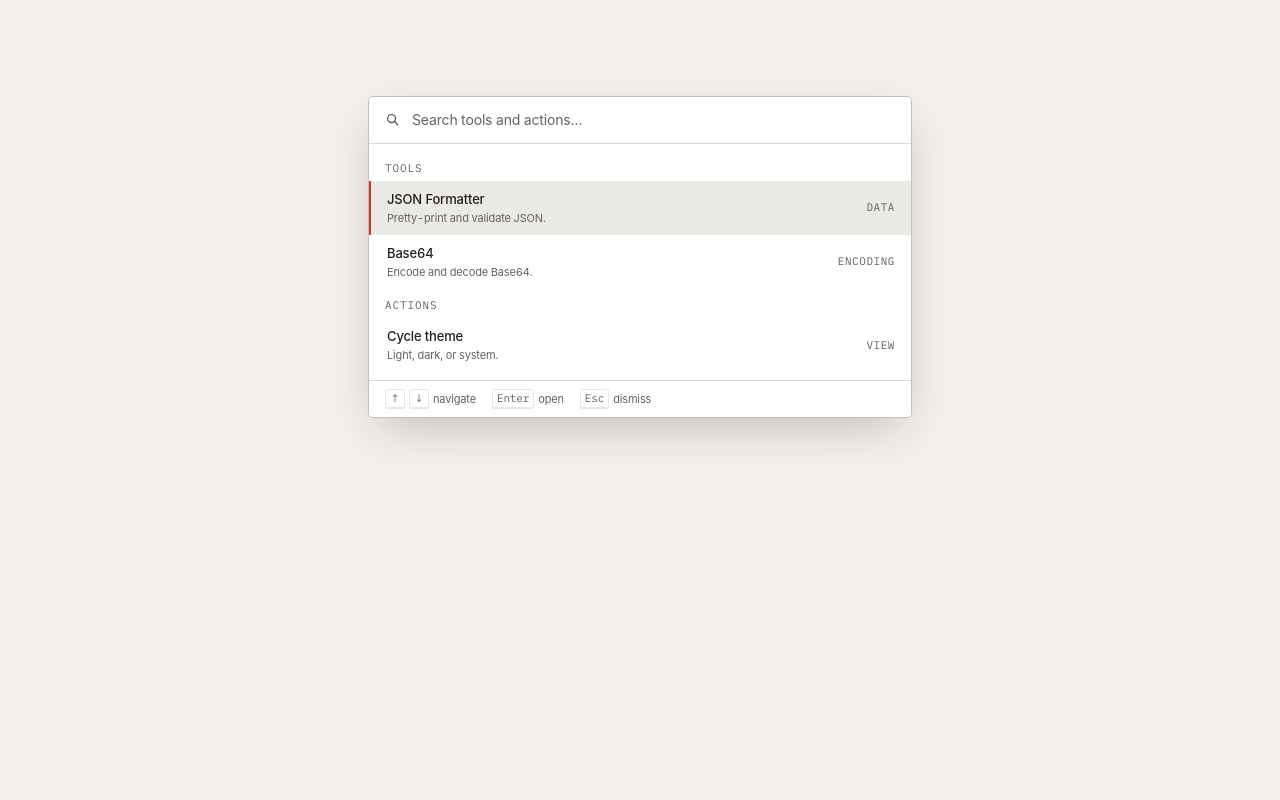
it: CommandPalette › filters as you type and ranks the best match first
The image size is (1280, 800).
Type "base" into the dropdown.
click(654, 120); type("base")  # box [412,109,895,131]
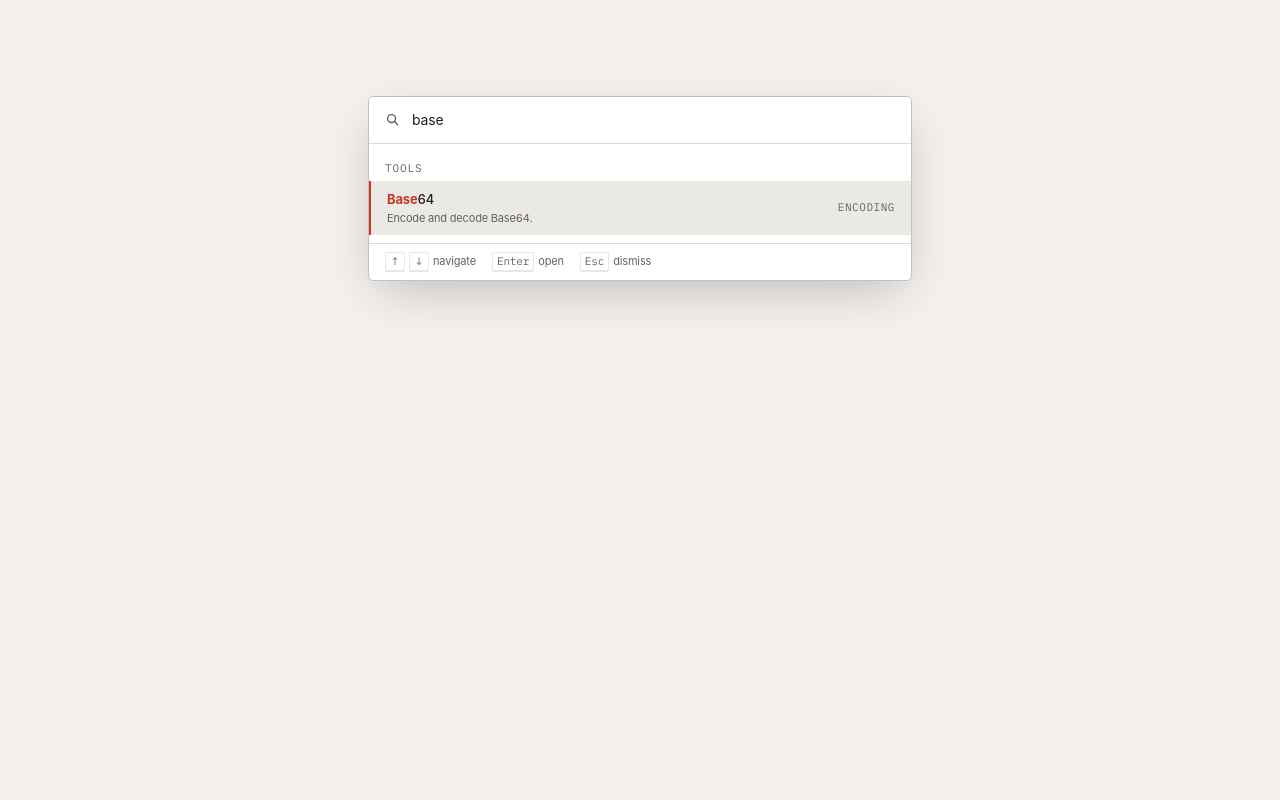
Check: the option shows "Base64", box [369,181,911,235]
Check: the number of options is 1, box [369,181,911,235]
